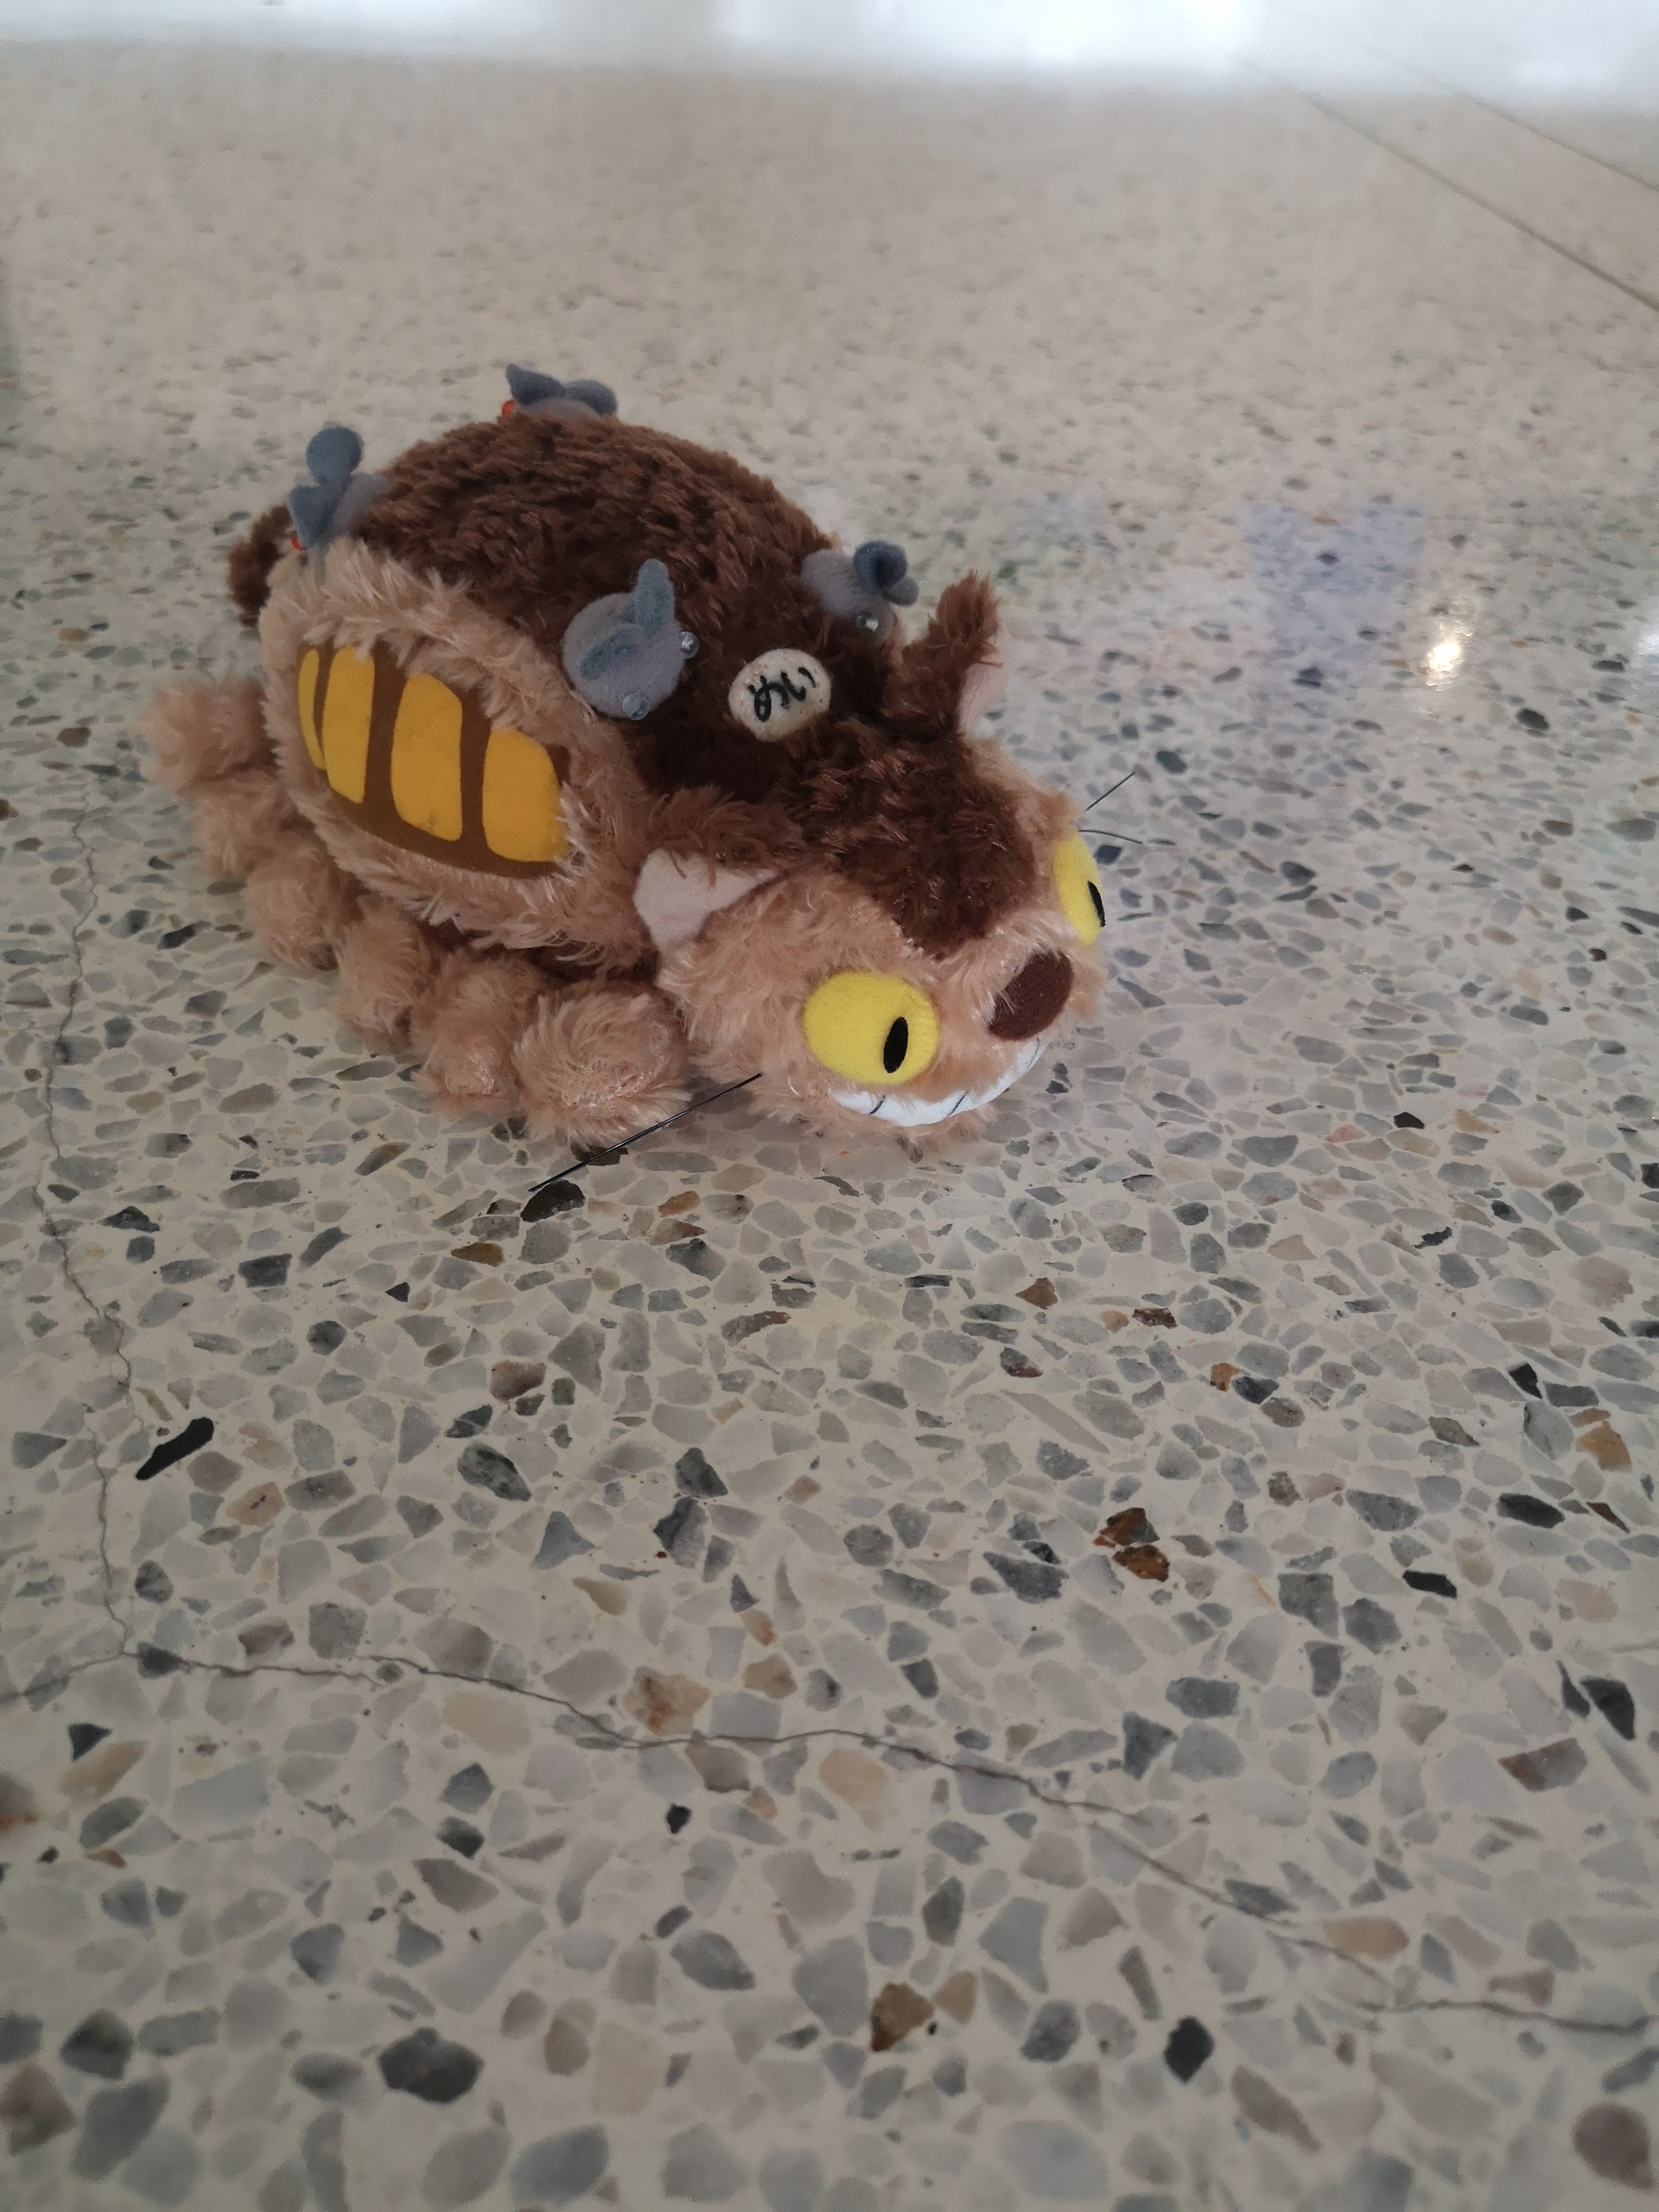nekobus: (148, 354, 1131, 1162)
